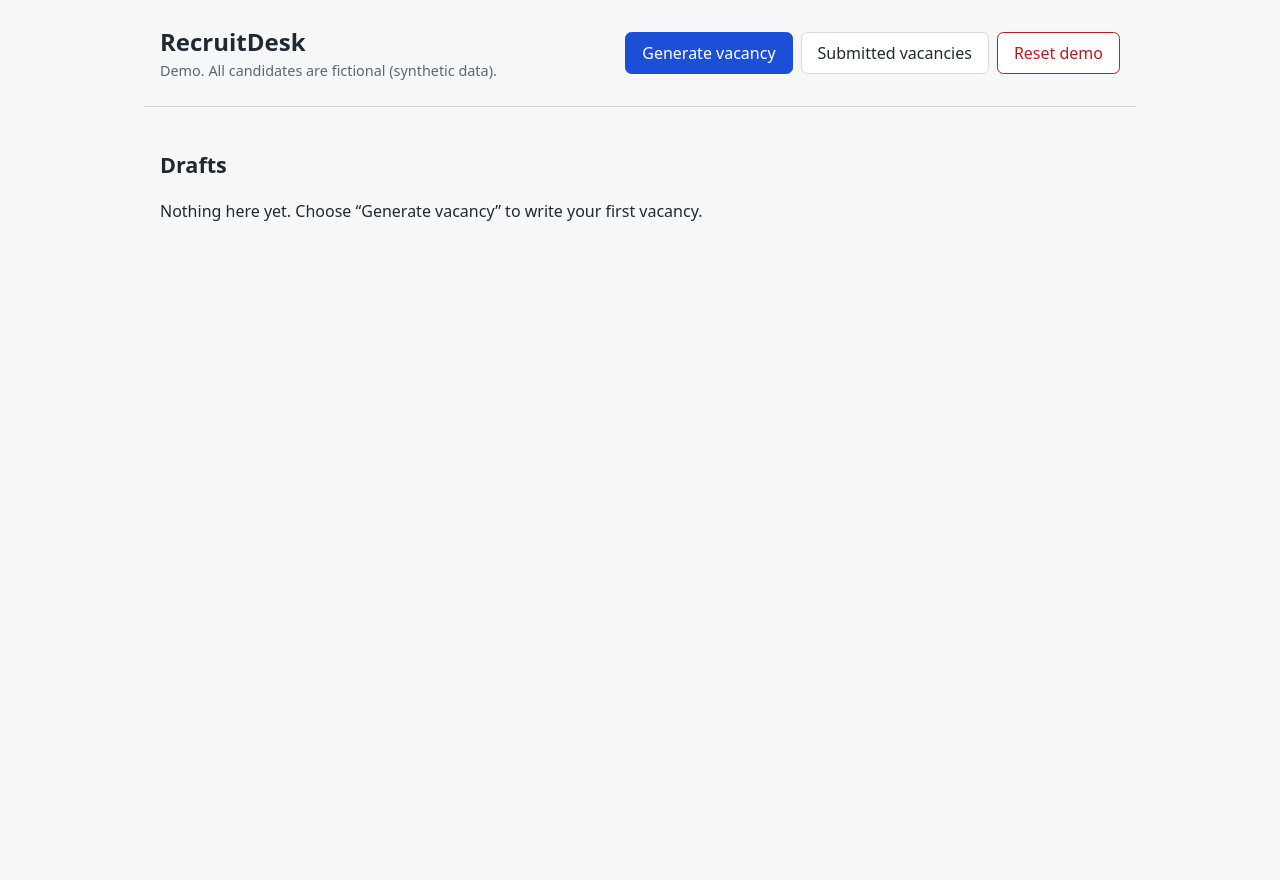
Scenario: the short list leads to the interview questions, which are made in the background
The width and height of the screenshot is (1280, 880).
Click the button "Submitted vacancies": (895, 53) top-left (801, 32), bottom-right (989, 74)
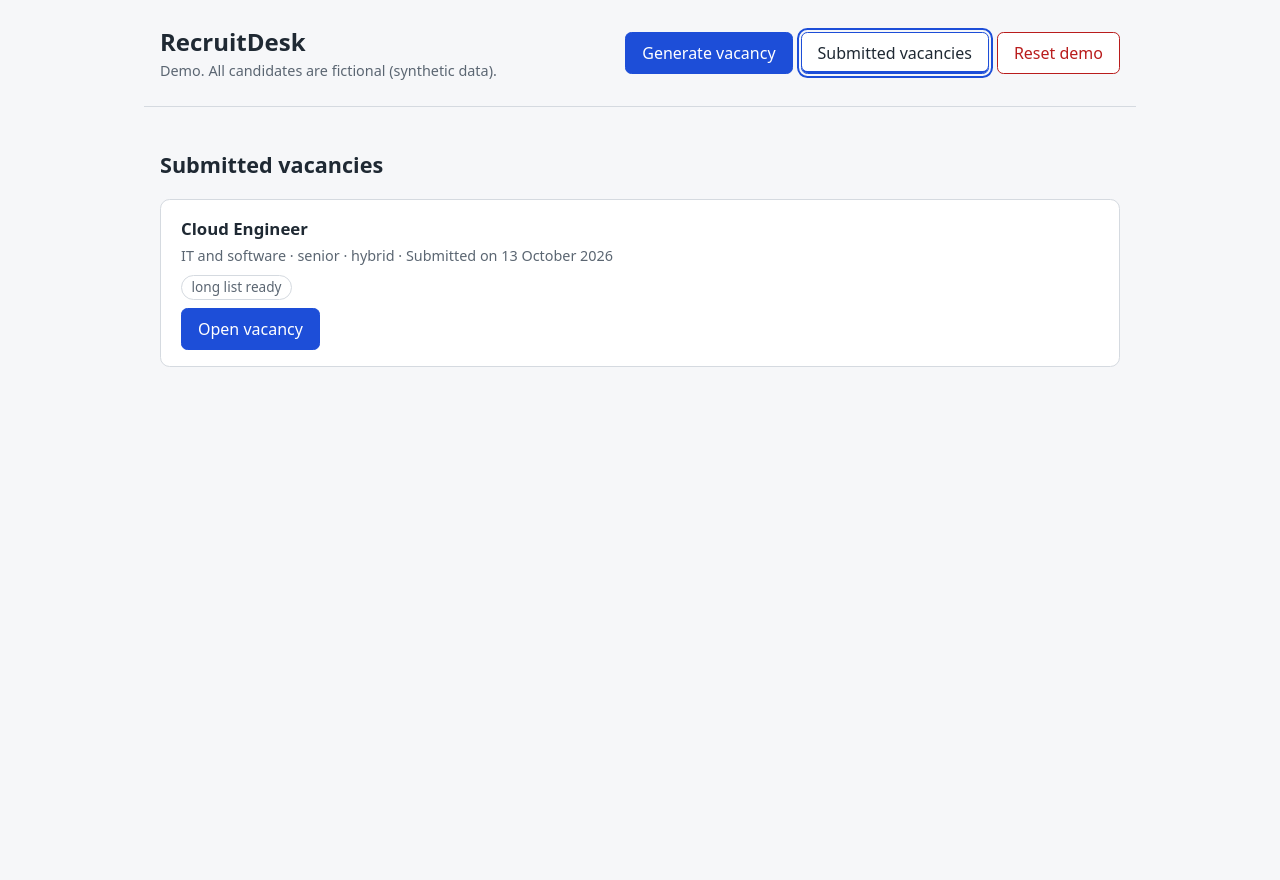
Click the button "Open vacancy": (250, 329) top-left (181, 308), bottom-right (320, 350)
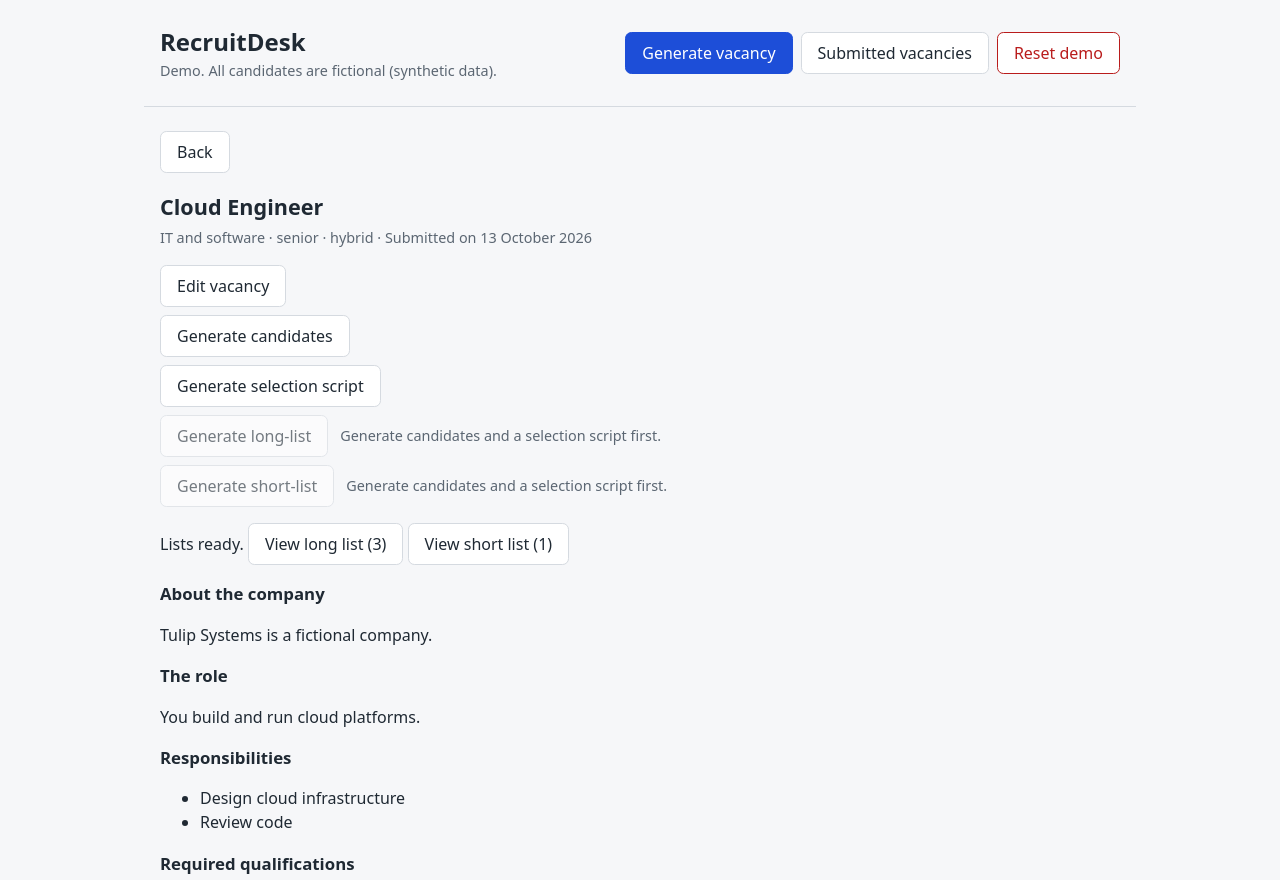
Click the button "View short list (1)": (488, 544) top-left (408, 522), bottom-right (569, 564)
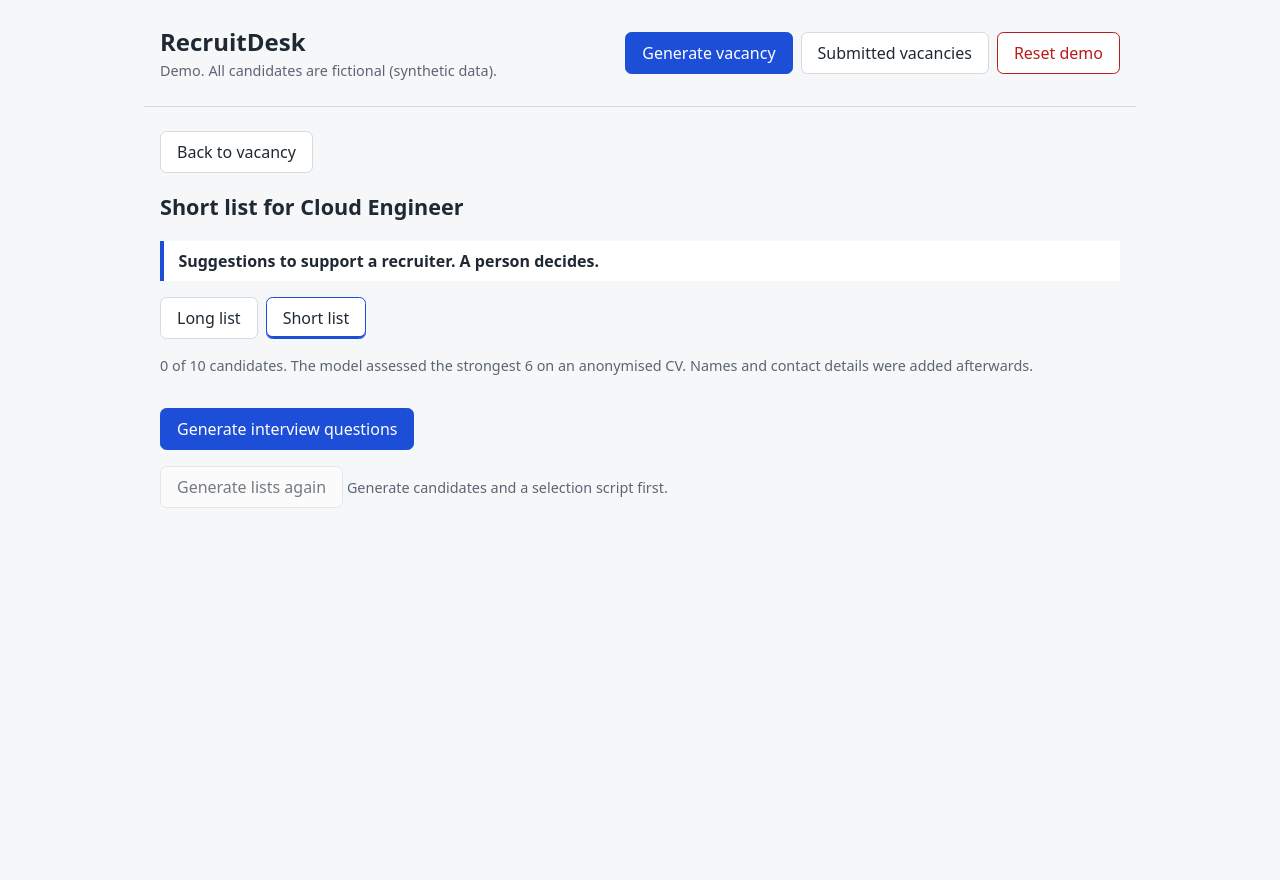
Result: the heading "Short list for Cloud Engineer" is shown at top-left (160, 192), bottom-right (464, 220)
Click the button "Generate interview questions": (287, 430) top-left (160, 408), bottom-right (414, 450)
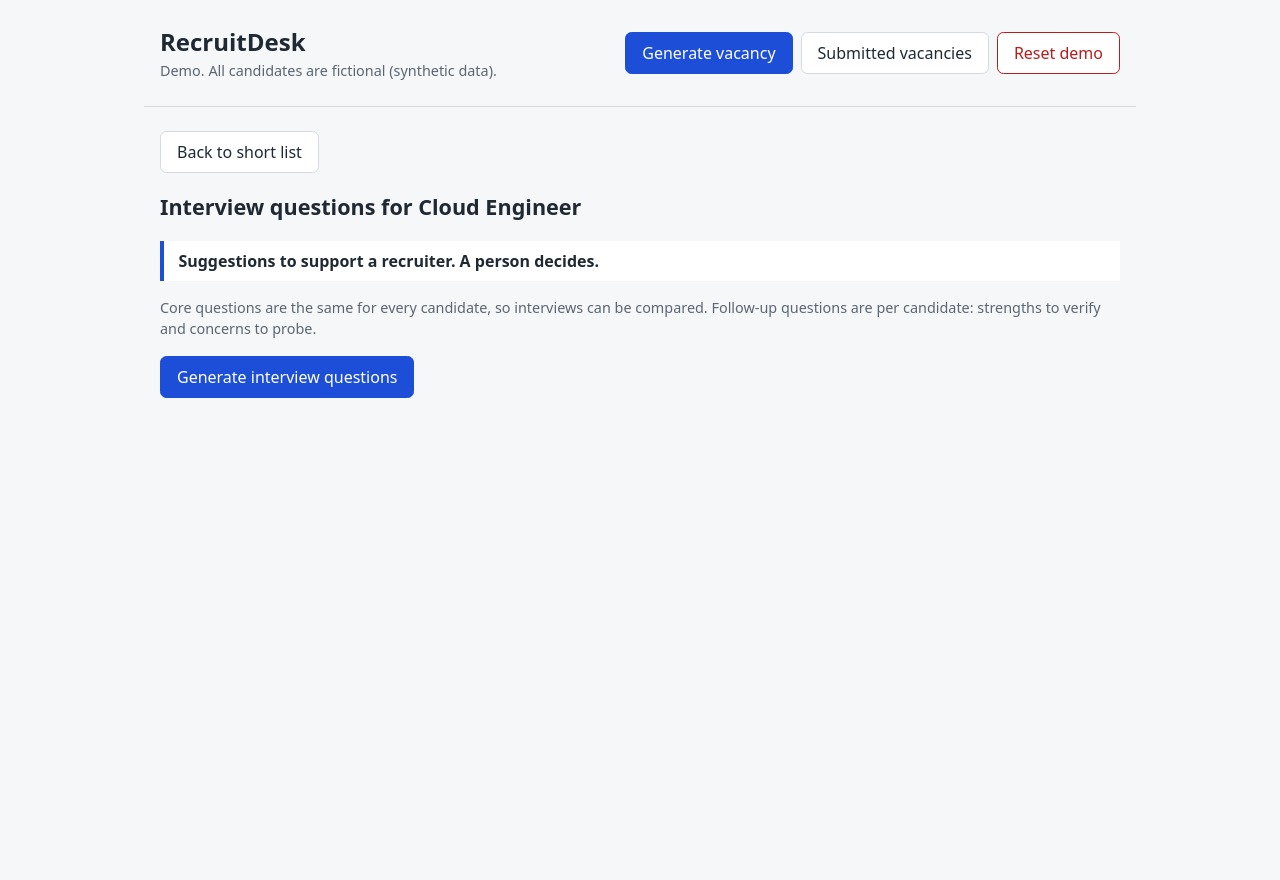
Result: the text "Suggestions to support a recruiter. A person decides." is shown at top-left (160, 241), bottom-right (1120, 281)
Result: the heading "Interview questions for Cloud Engineer" is shown at top-left (160, 192), bottom-right (581, 220)
Click the button "Generate interview questions": (287, 377) top-left (160, 356), bottom-right (414, 398)
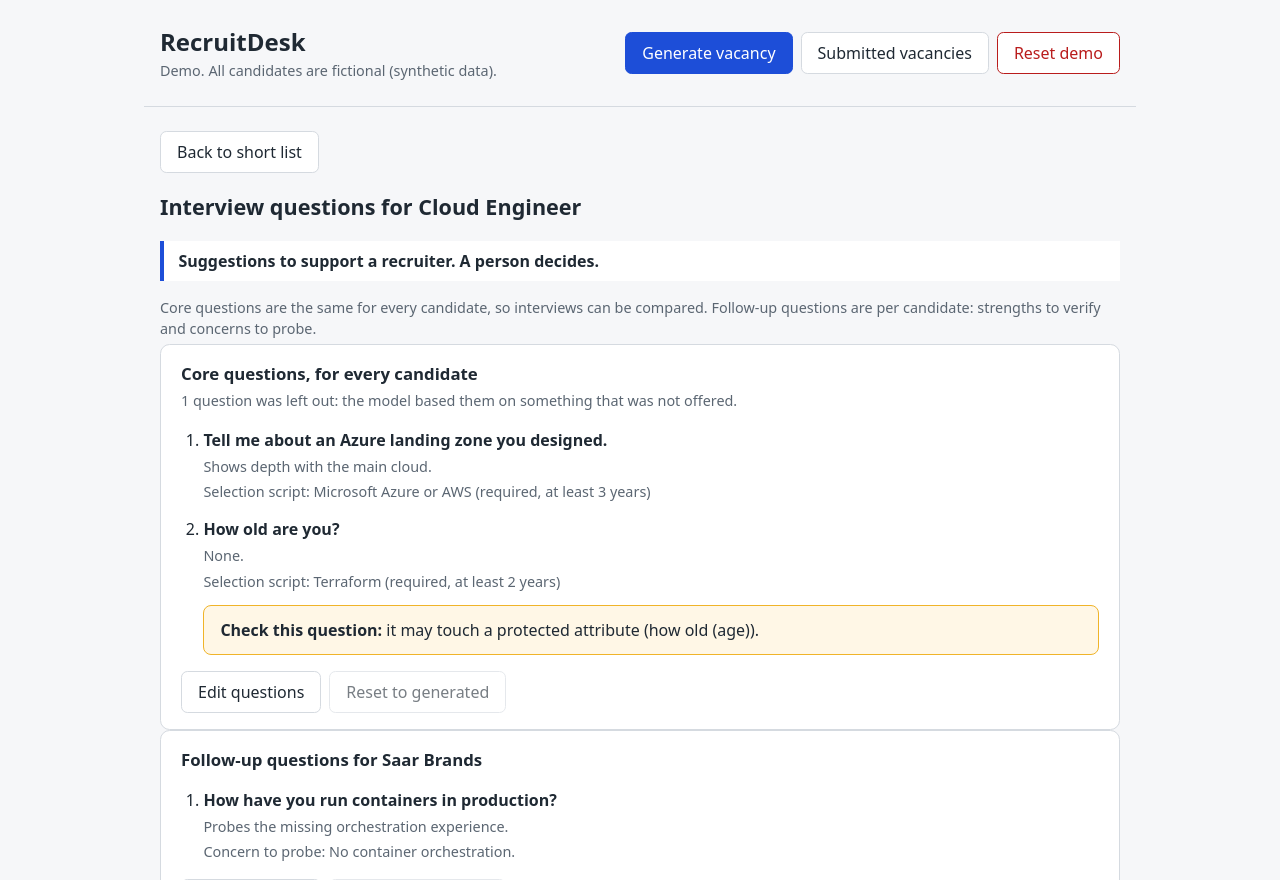
Result: the heading "Core questions, for every candidate" is shown at top-left (181, 362), bottom-right (478, 385)
Result: the heading "Follow-up questions for Saar Brands" is shown at top-left (181, 748), bottom-right (482, 771)
